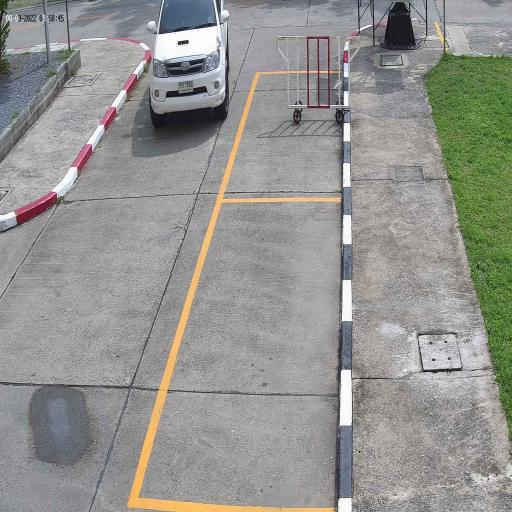car: (150, 0, 230, 126)
